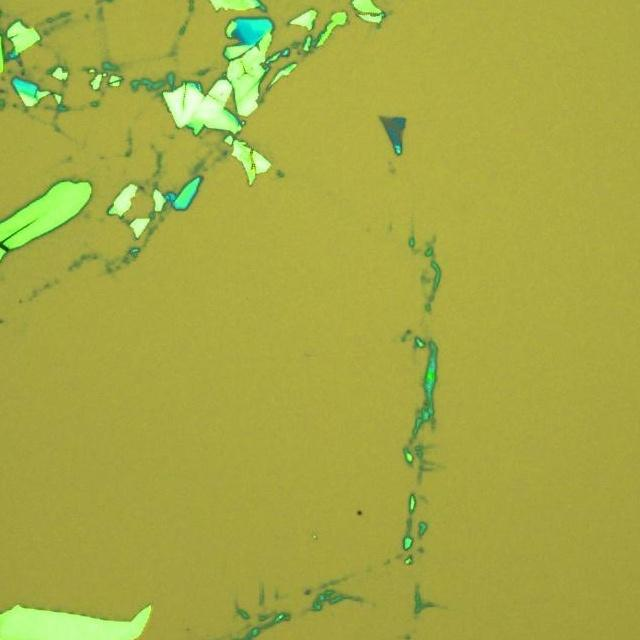monolayer-eWW4: (380, 116, 402, 140)
